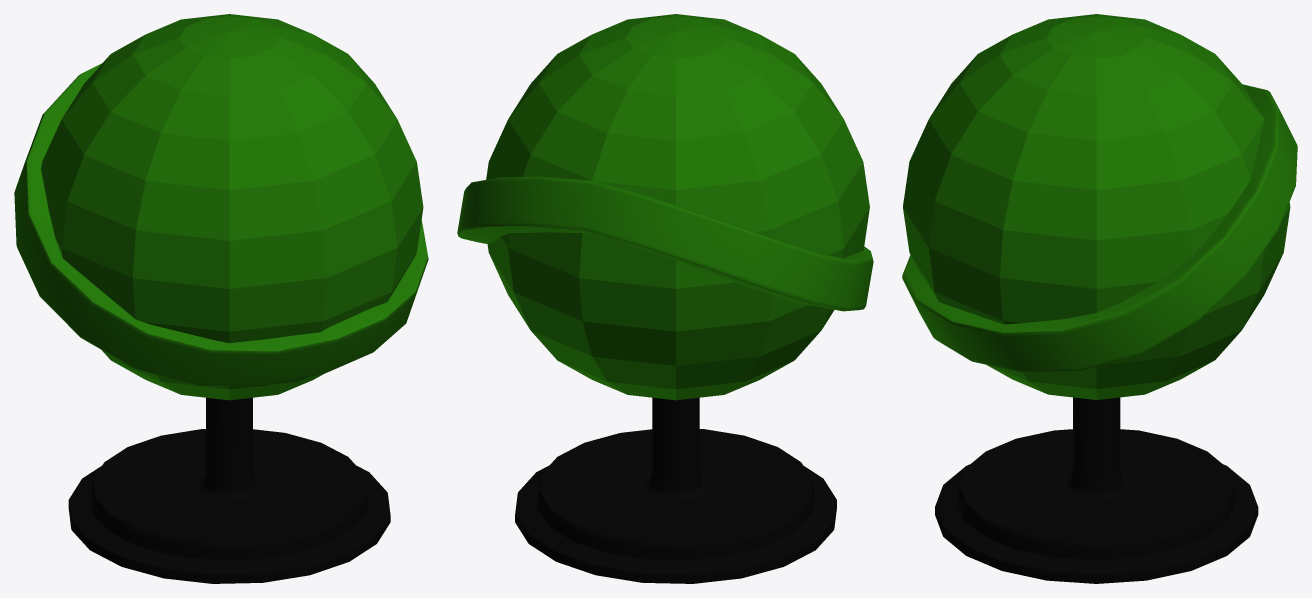
File: caca.fbx
3 views of the same model, side by side, from view 1: azimuth 30°, elevation 25°; view 2: azimuth 150°, elevation 25°; view 3: azimuth 270°, elevation 25° (orthographic).
Parts seen in each view (by area): view 1: truc_de_merde; view 2: truc_de_merde; view 3: truc_de_merde.
Boxes of the visible parts, x1,y1,x2,y2 form: truc_de_merde: [14, 14, 428, 583]; truc_de_merde: [457, 14, 873, 583]; truc_de_merde: [902, 14, 1297, 583].
Size of the model in its own units: 2.59 by 3.31 by 2.44.
